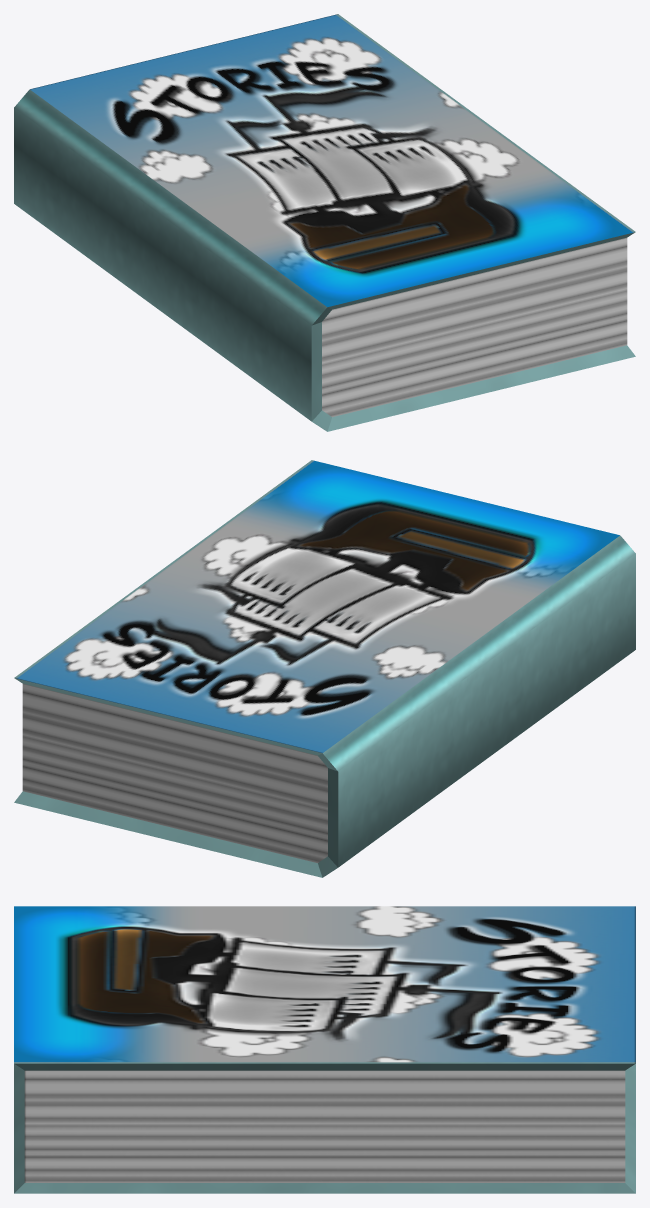
Rendered from Book_A.FBX.
3 views of the same model, one above another, from view 1: azimuth 30°, elevation 25°; view 2: azimuth 150°, elevation 25°; view 3: azimuth 270°, elevation 25° (orthographic). The views are drawn at different scales.
Parts seen in each view (by area): view 1: Book; view 2: Book; view 3: Book.
Boxes of the visible parts, x1,y1,x2,y2 form: Book: (14,14,635,431); Book: (14,460,635,877); Book: (14,906,635,1193).
Size of the model in its own units: 61.34 by 22.54 by 97.58.
